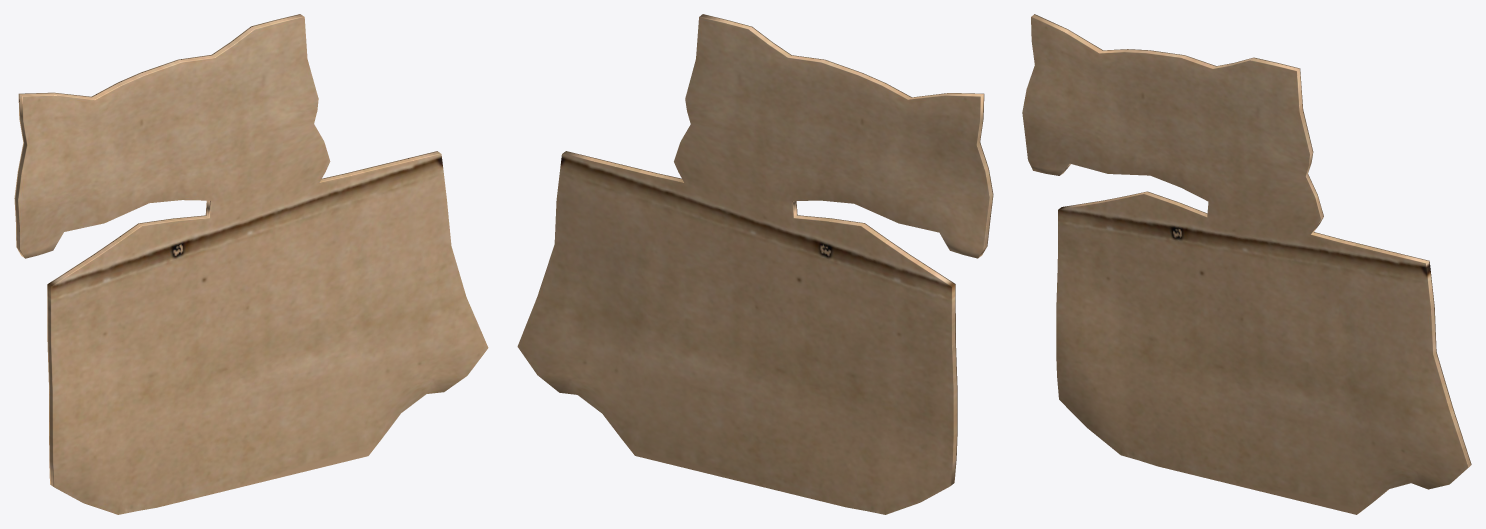
File: cartonC.fbx
The picture shows the model from 3 angles, left to right: view 1: azimuth 30°, elevation 25°; view 2: azimuth 150°, elevation 25°; view 3: azimuth 330°, elevation 25°; orthographic projection. The views are drawn at different scales.
Parts seen in each view (by area): view 1: cartonC; view 2: cartonC; view 3: cartonC.
Boxes of the visible parts, x1=… form: cartonC: x1=14, y1=14, x2=488, y2=514; cartonC: x1=517, y1=14, x2=993, y2=514; cartonC: x1=1022, y1=14, x2=1471, y2=514.
Bounding box in the file's own units: 181 × 167 × 4.71.
